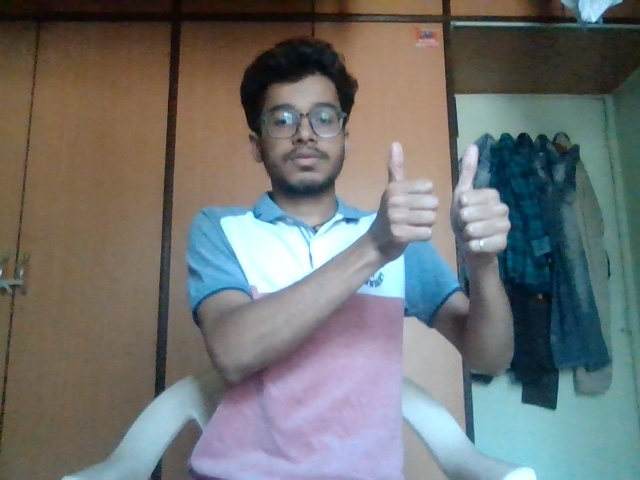thank-you: (376, 134, 510, 276)
